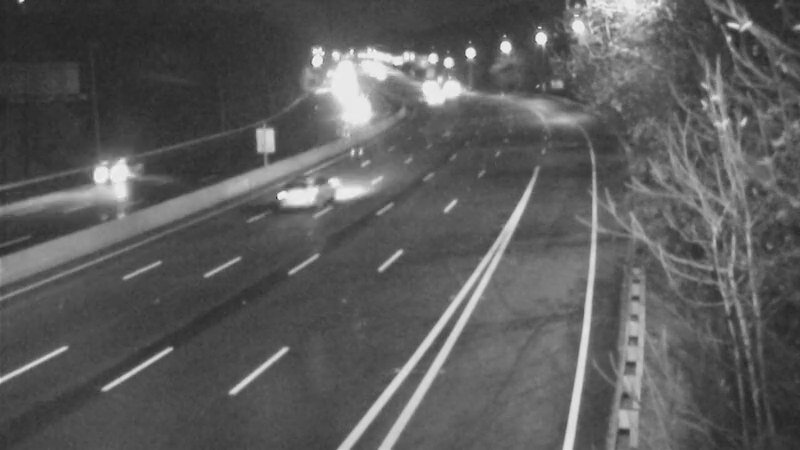vehicle: (260, 153, 340, 233), (68, 145, 148, 225)
